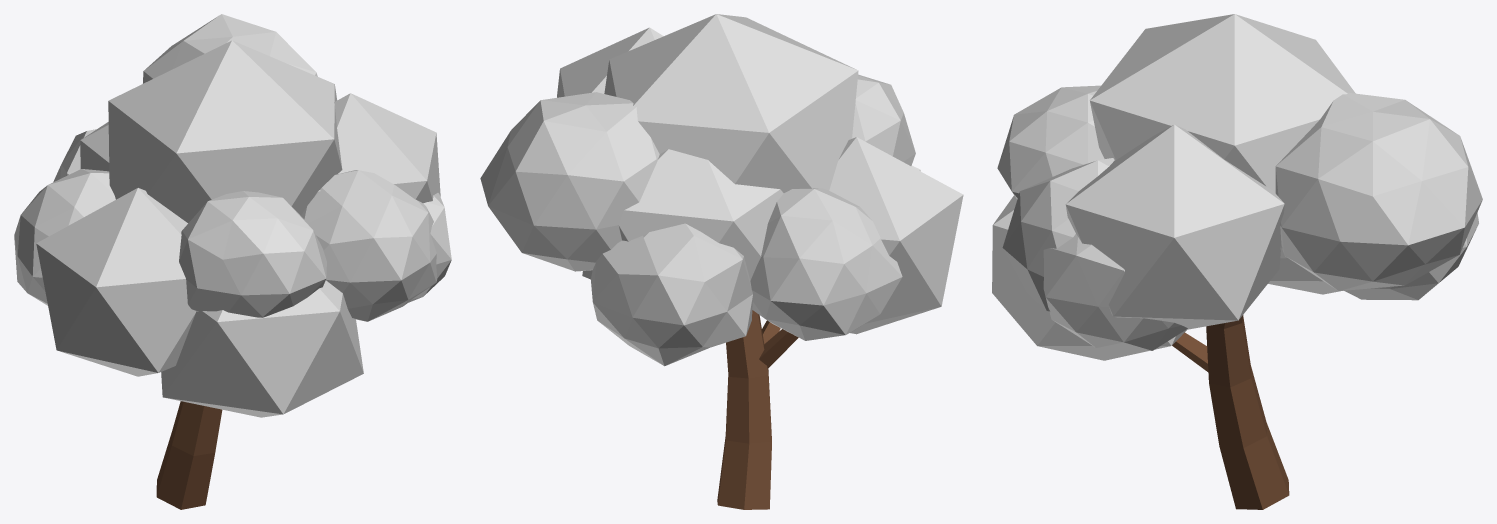
The model's file is tree_round_2.glb.
3 renders of one model, left to right at view 1: azimuth 30°, elevation 25°; view 2: azimuth 150°, elevation 25°; view 3: azimuth 270°, elevation 25°, orthographic. The views are drawn at different scales.
Parts seen in each view (by area): view 1: tree_round_2; view 2: tree_round_2; view 3: tree_round_2.
Part boxes in pixels (x1,y1,x2,y2): tree_round_2: (14, 14, 451, 509); tree_round_2: (480, 14, 963, 509); tree_round_2: (992, 14, 1482, 509).
Size of the model in its own units: 3.88 by 4.57 by 3.99.
